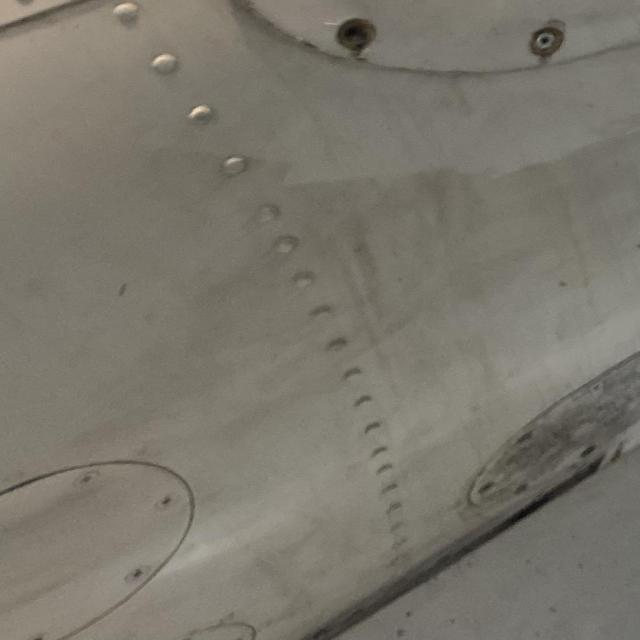Missing-head: (336, 15, 378, 53)
